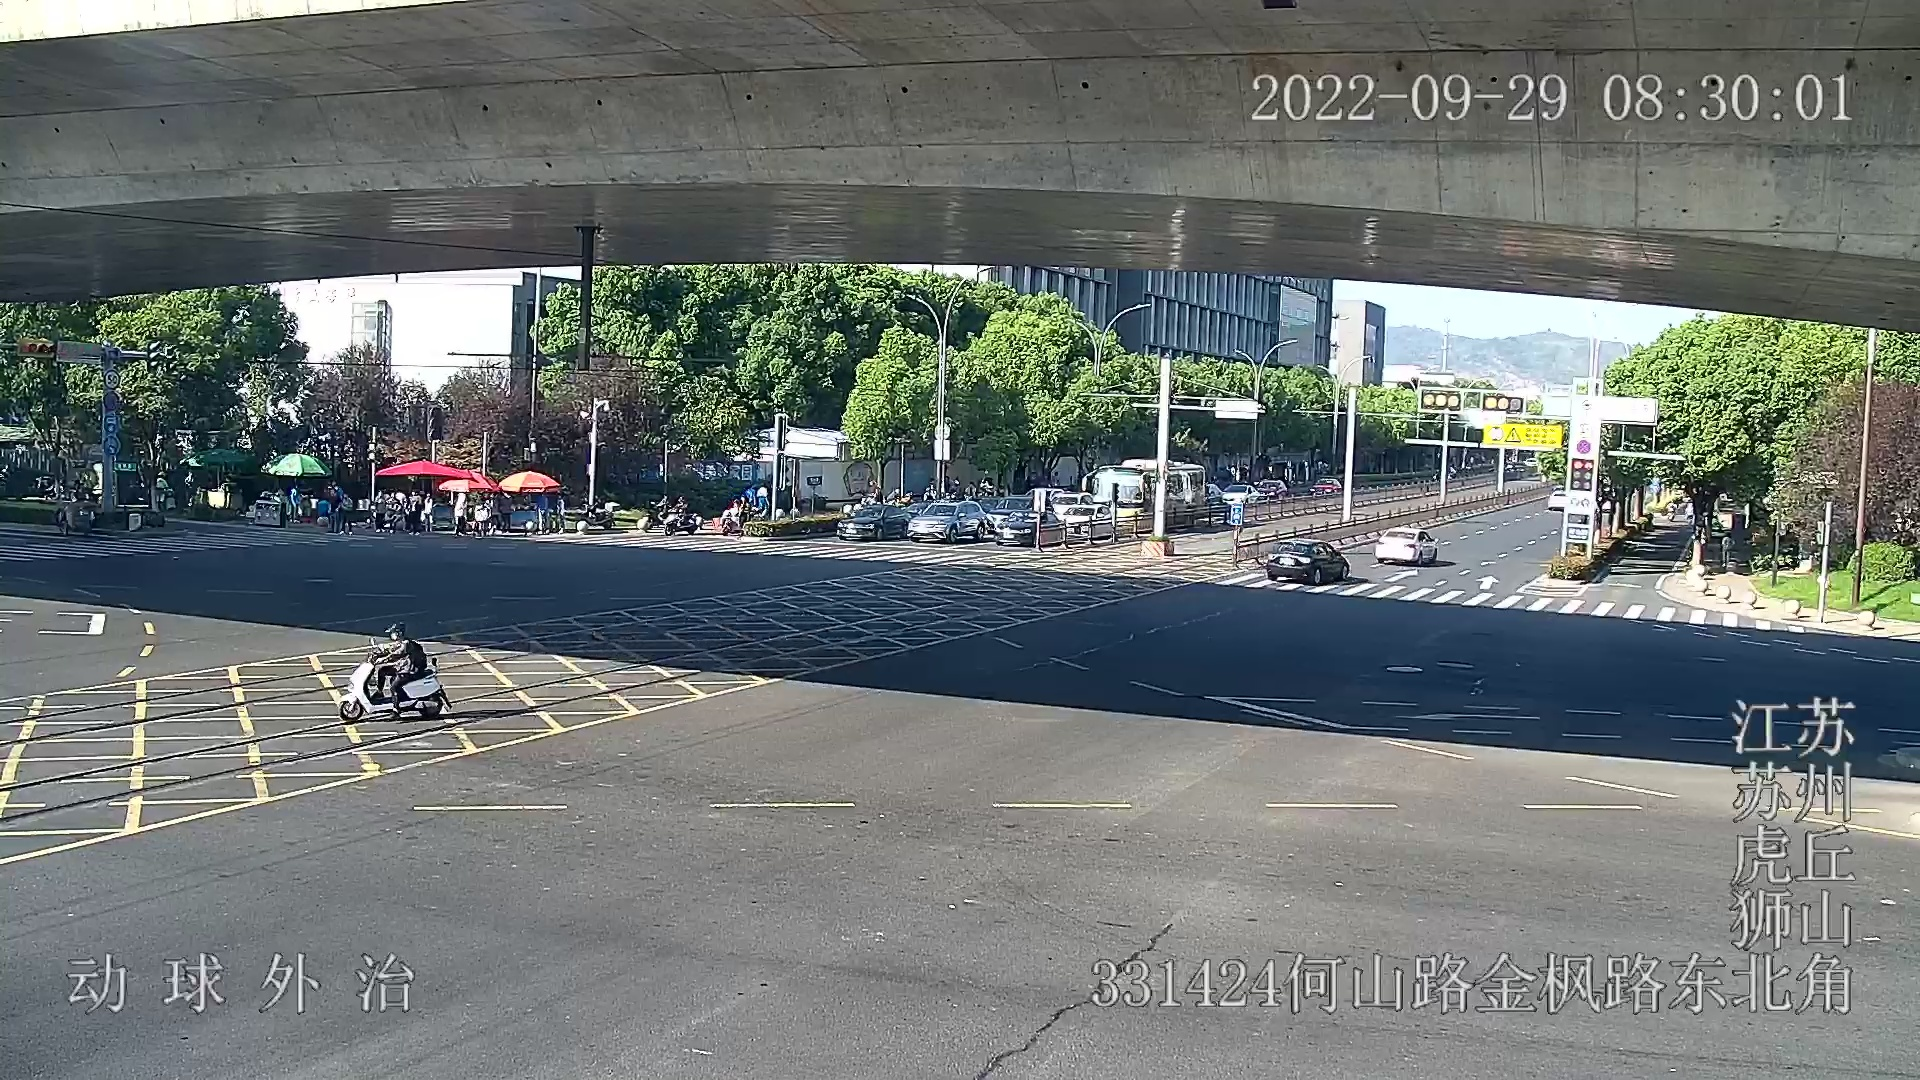头肩: (386, 622, 415, 651)
机动车: (1089, 458, 1207, 527), (1265, 541, 1352, 585), (909, 501, 986, 542), (837, 502, 909, 539), (1373, 527, 1439, 564), (994, 512, 1064, 545), (1064, 506, 1113, 538), (1052, 492, 1095, 522), (1221, 485, 1261, 506), (1548, 484, 1571, 512), (1312, 480, 1342, 497)
行人: (373, 617, 433, 716)
非机动车: (338, 618, 448, 723)
